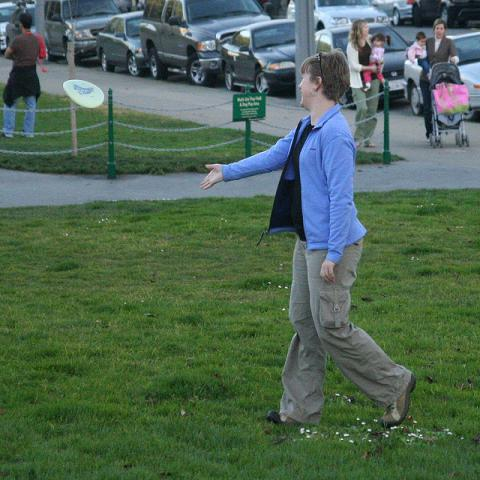car: (311, 26, 410, 102), (404, 30, 480, 120), (218, 18, 297, 94), (284, 1, 394, 36), (96, 9, 143, 78), (412, 0, 479, 30), (0, 1, 20, 52)
truck: (138, 0, 272, 85), (44, 0, 122, 60)
